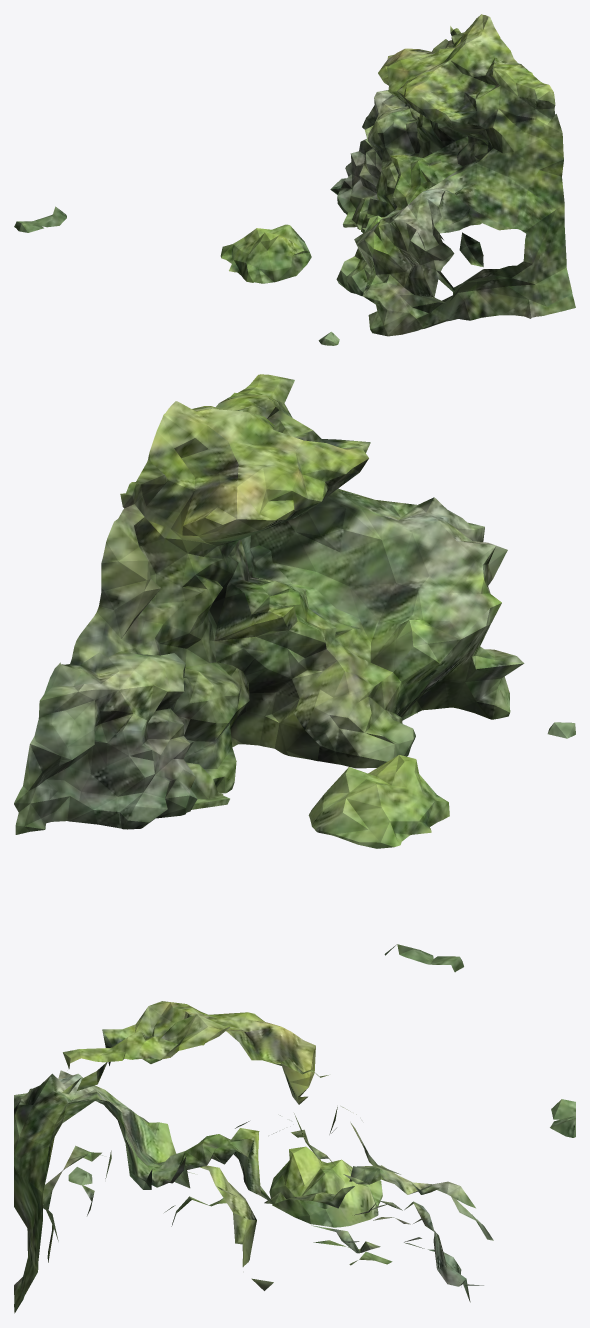
3 views of the same model, one above another, from view 1: azimuth 30°, elevation 25°; view 2: azimuth 150°, elevation 25°; view 3: azimuth 270°, elevation 25° (orthographic). The views are drawn at different scales.
Bounding box in the file's own units: 22.87 × 14.68 × 26.11.
2 materials, 2 textured.
